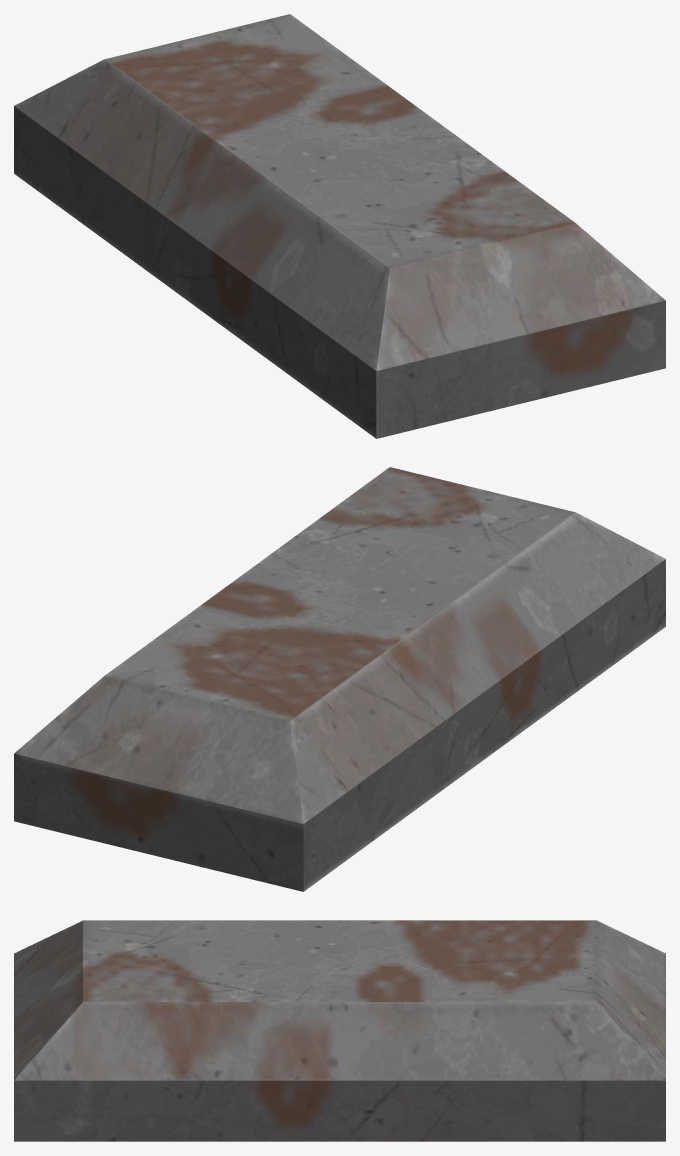
Rendered from IronIngot.glb.
3 views of the same model, one above another, from view 1: azimuth 30°, elevation 25°; view 2: azimuth 150°, elevation 25°; view 3: azimuth 270°, elevation 25° (orthographic). The views are drawn at different scales.
Parts seen in each view (by area): view 1: IronIngot; view 2: IronIngot; view 3: IronIngot.
Boxes of the visible parts, x1=… form: IronIngot: x1=14, y1=14, x2=665, y2=438; IronIngot: x1=14, y1=467, x2=665, y2=891; IronIngot: x1=14, y1=920, x2=665, y2=1141.
Bounding box in the file's own units: 0.2206 × 0.0945 × 0.4784.
Materials: 1 (1 with a texture image).
